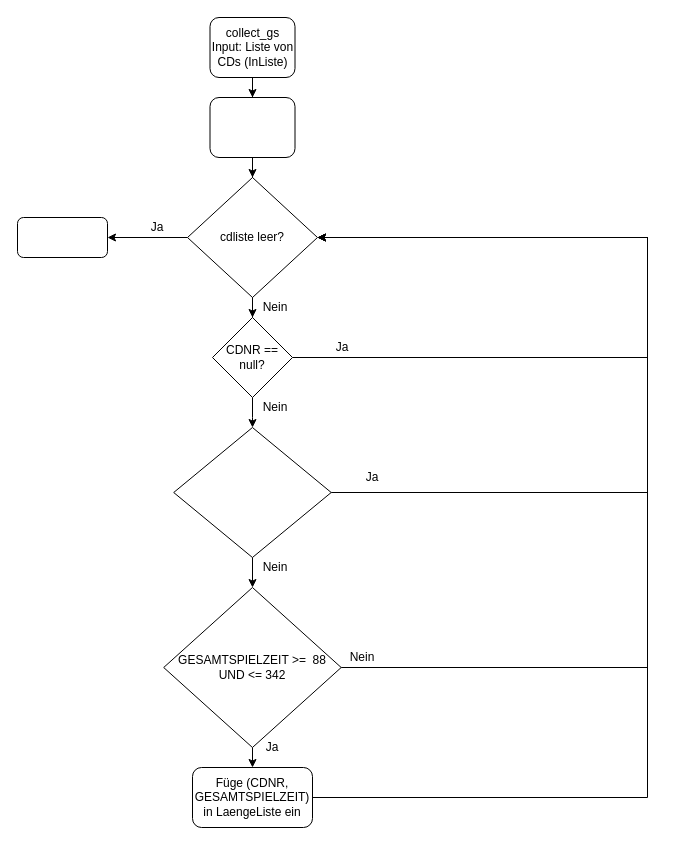
Some shapes in this 673 by 845 pixel diagram are drawn without their labels. The centre of each missing label's shape, as x and y in pixels:
GESAMTSPIELZEIT == null?: [252,492]
LaengeListe = leer: [252,127]
LaengeListe ausgeben: [62,237]
